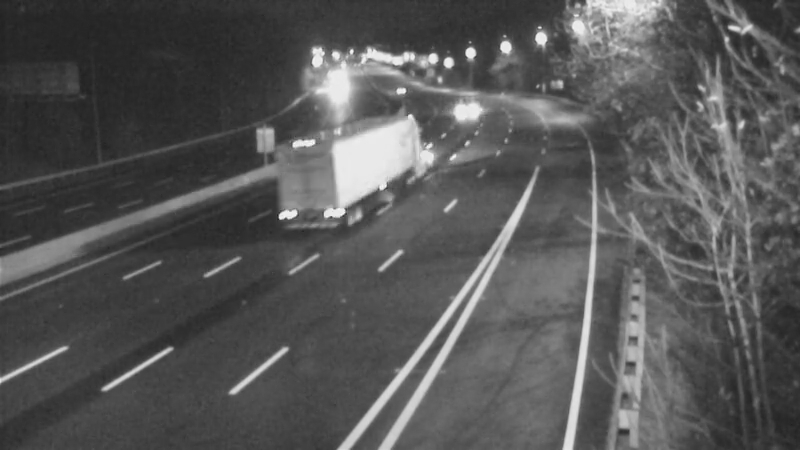vehicle: (316, 118, 396, 198), (375, 66, 425, 116), (444, 83, 494, 133), (314, 65, 364, 115)
